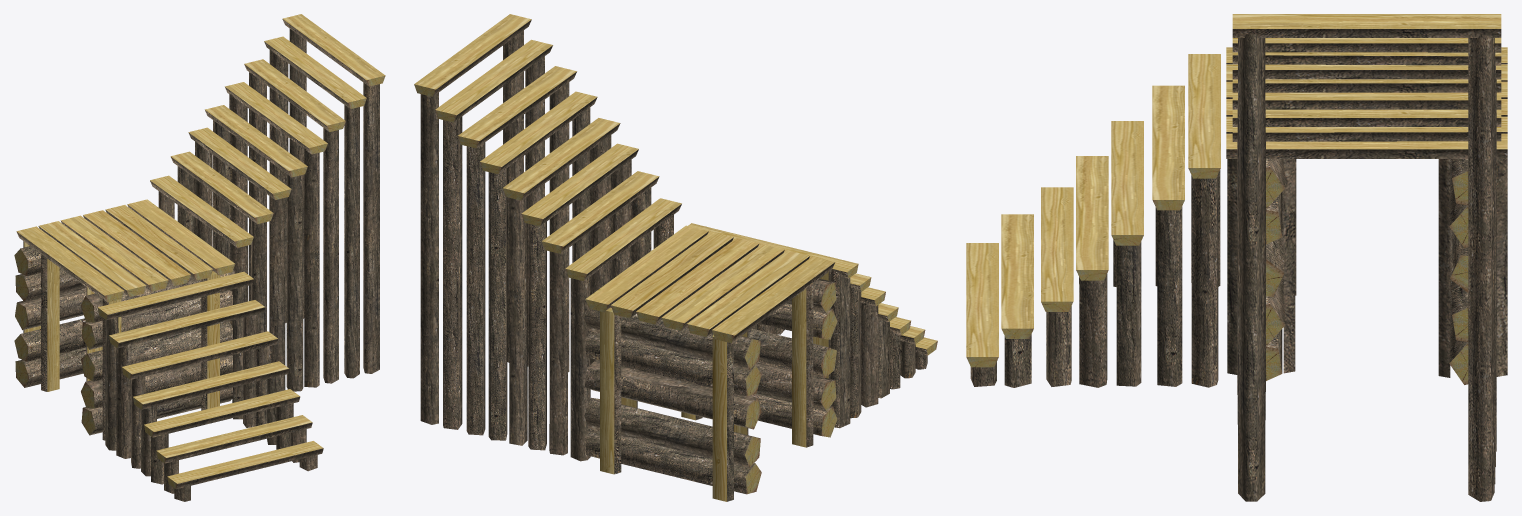
The model's file is construction_wood_stairs_L_mesh.fbx.
3 renders of one model, left to right at view 1: azimuth 30°, elevation 25°; view 2: azimuth 150°, elevation 25°; view 3: azimuth 270°, elevation 25°, orthographic. The views are drawn at different scales.
Visible parts, largest first — view 1: construction_wood_stairs_L_mesh; view 2: construction_wood_stairs_L_mesh; view 3: construction_wood_stairs_L_mesh.
Boxes of the visible parts, x1=… form: construction_wood_stairs_L_mesh: x1=14, y1=14, x2=385, y2=501; construction_wood_stairs_L_mesh: x1=414, y1=14, x2=937, y2=501; construction_wood_stairs_L_mesh: x1=966, y1=14, x2=1507, y2=501.
Size of the model in its own units: 311 by 303 by 313.
